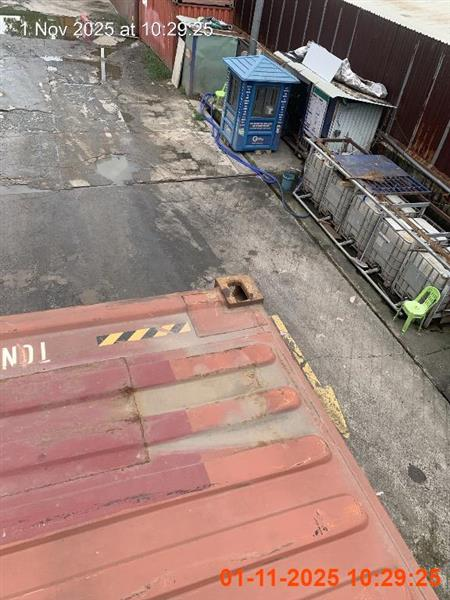scratch: (1, 272, 438, 598), (393, 285, 441, 336)
